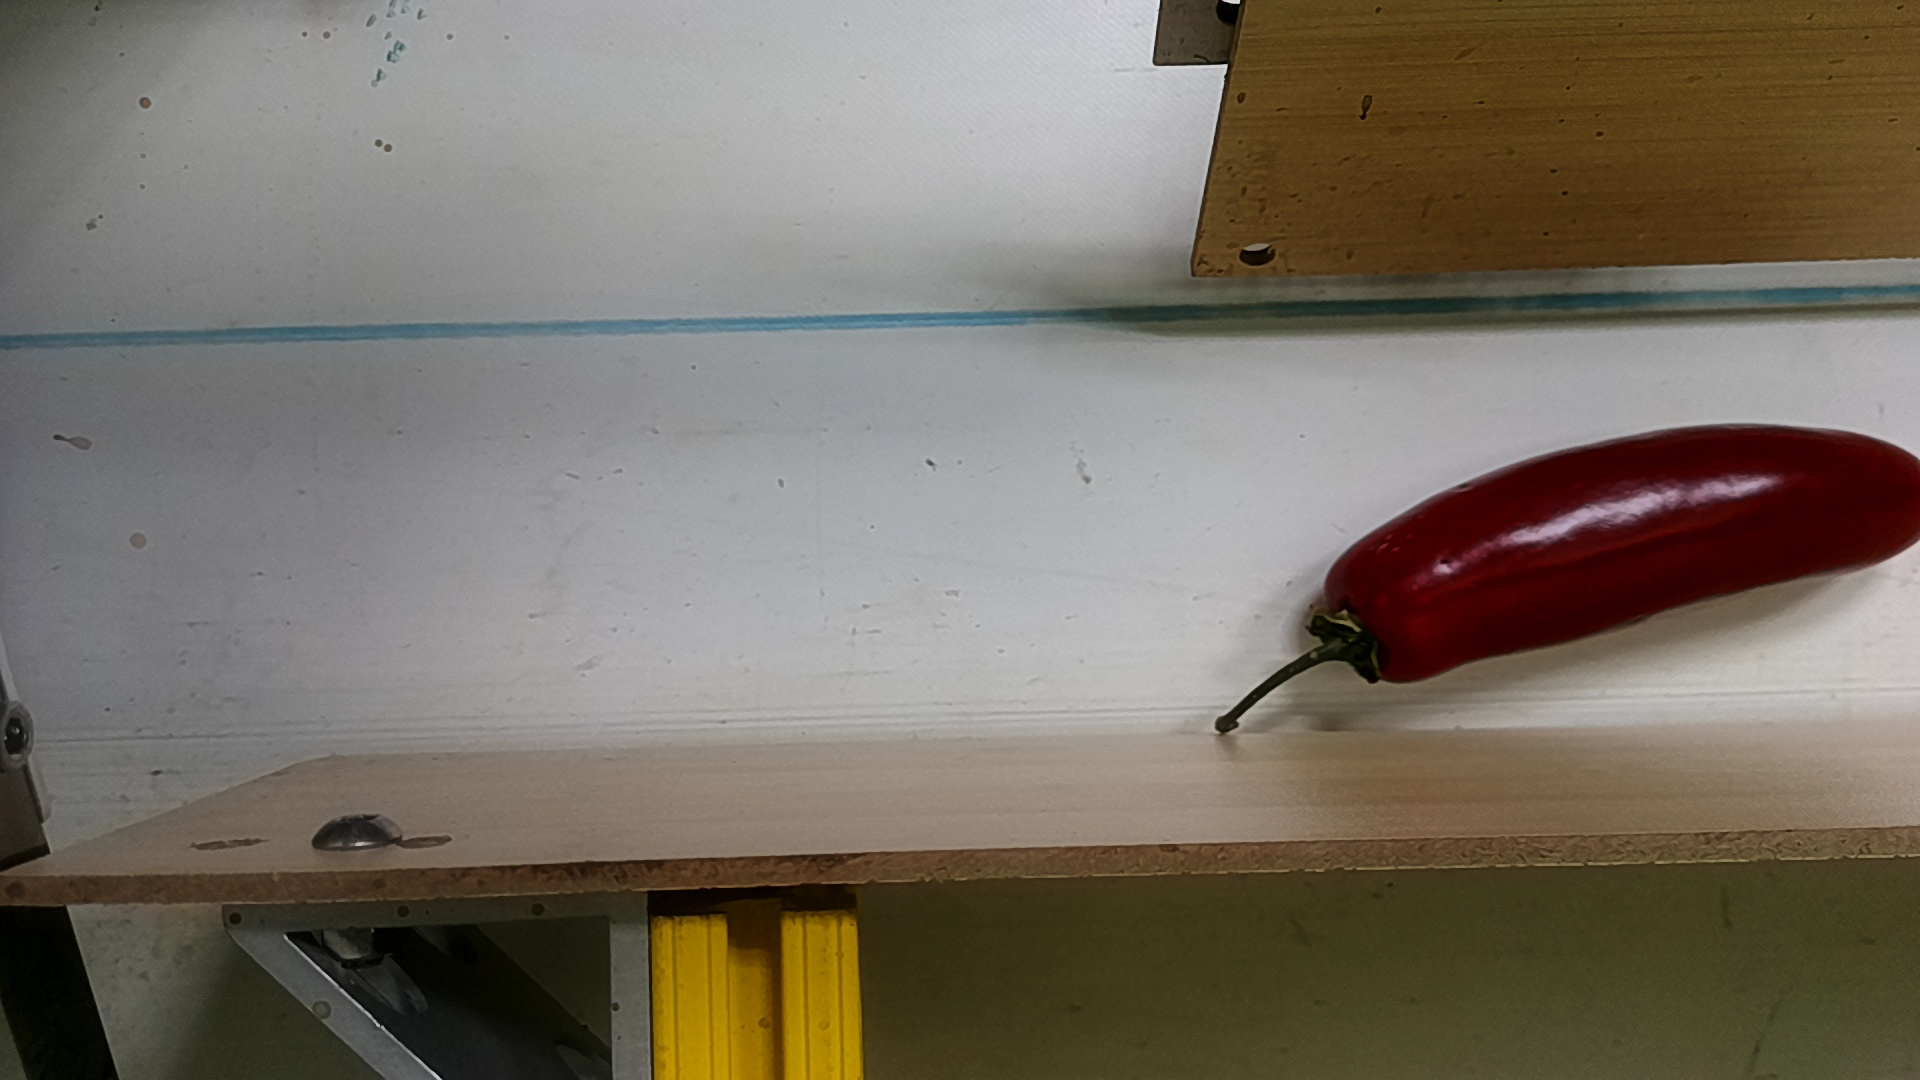Cut Point: (1304, 543, 1443, 687)
